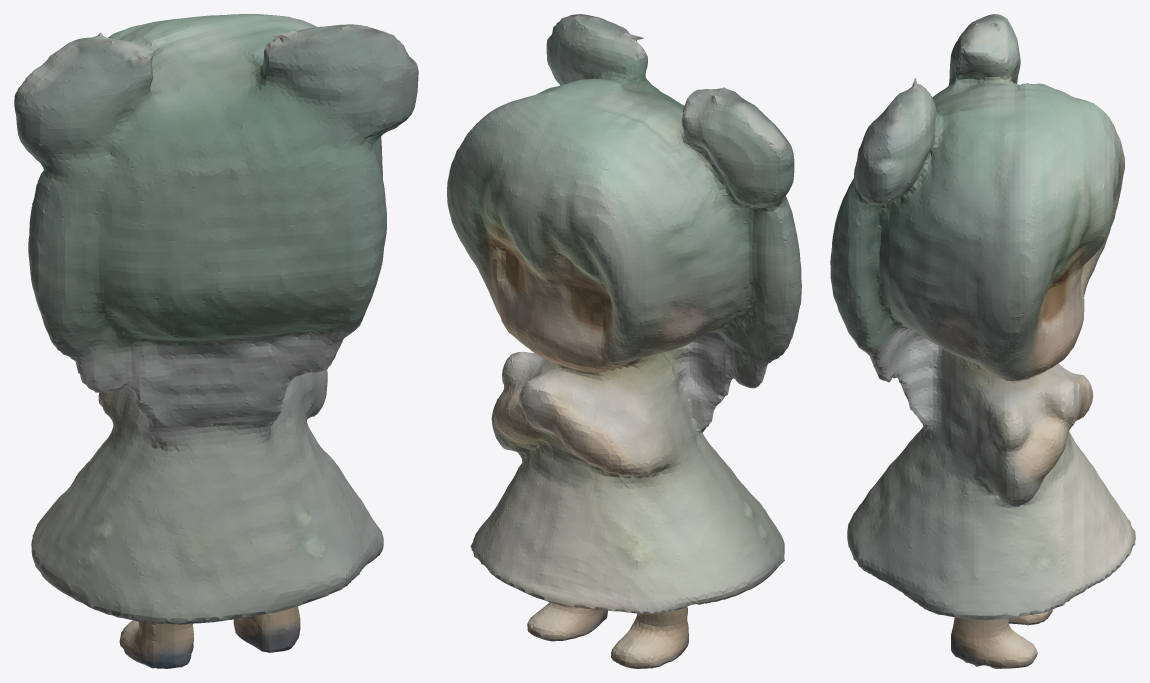
Rendered from anan-v2.glb.
The picture shows the model from 3 angles, left to right: view 1: azimuth 30°, elevation 25°; view 2: azimuth 150°, elevation 25°; view 3: azimuth 270°, elevation 25°; orthographic projection. The views are drawn at different scales.
Visible parts, largest first — view 1: world; view 2: world; view 3: world.
Boxes of the visible parts, bbox=[...] form: world: bbox=[14, 14, 418, 668]; world: bbox=[447, 14, 801, 668]; world: bbox=[830, 14, 1135, 668].
Size of the model in its own units: 1.2 by 2 by 0.9782.
